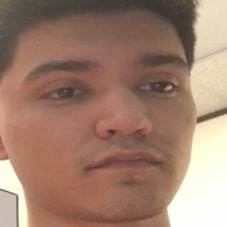awake: (21, 52, 192, 187)
